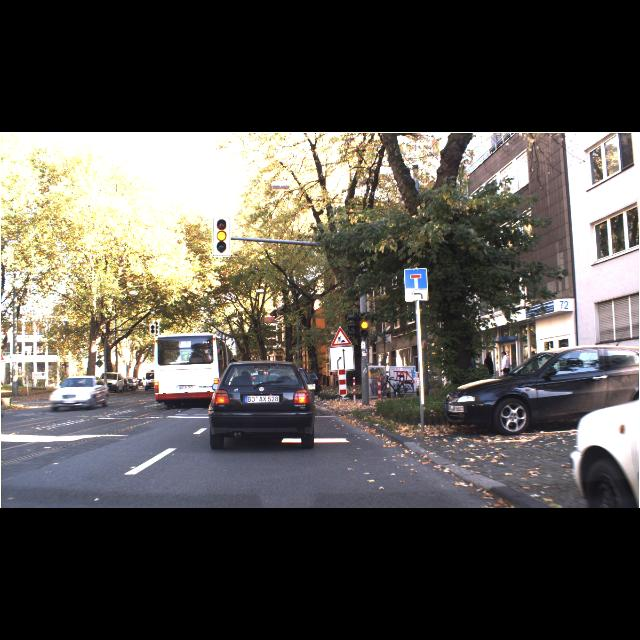danger: (331, 326, 352, 346)
